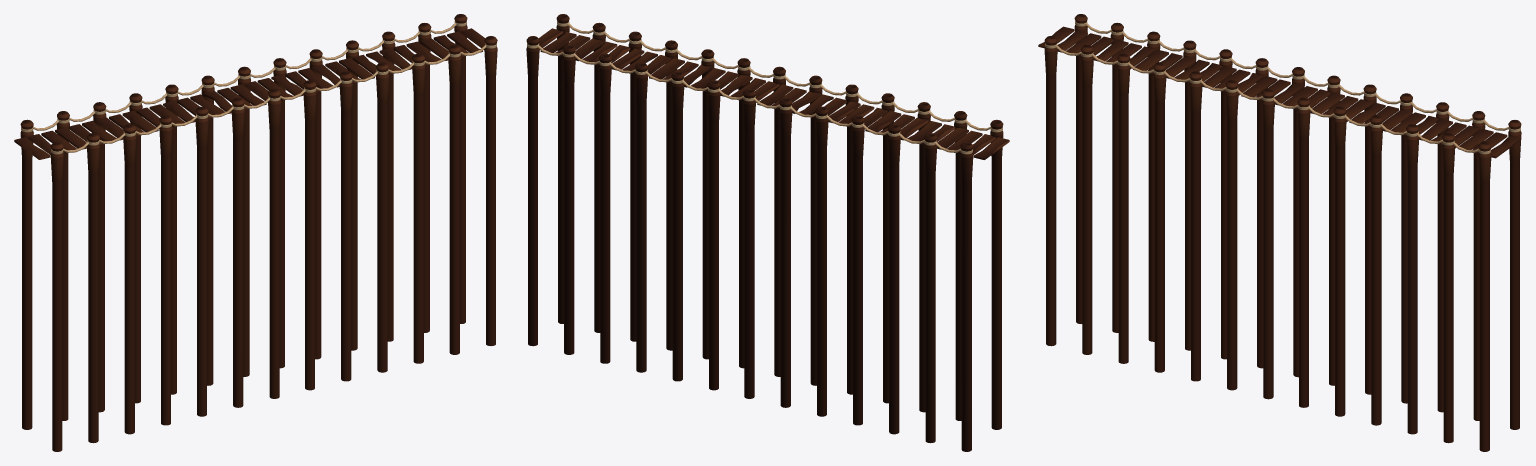
File: island bridge.fbx
3 renders of one model, left to right at view 1: azimuth 30°, elevation 25°; view 2: azimuth 150°, elevation 25°; view 3: azimuth 330°, elevation 25°, orthographic.
Parts seen in each view (by area): view 1: Circle.049; view 2: Circle.049; view 3: Circle.049.
Boxes of the visible parts, bbox=[...] form: Circle.049: bbox=[14, 14, 497, 451]; Circle.049: bbox=[526, 14, 1009, 451]; Circle.049: bbox=[1038, 14, 1521, 451].
Bounding box in the file's own units: 9808 × 6270 × 1363.
Materials: 3 (3 with a texture image).
